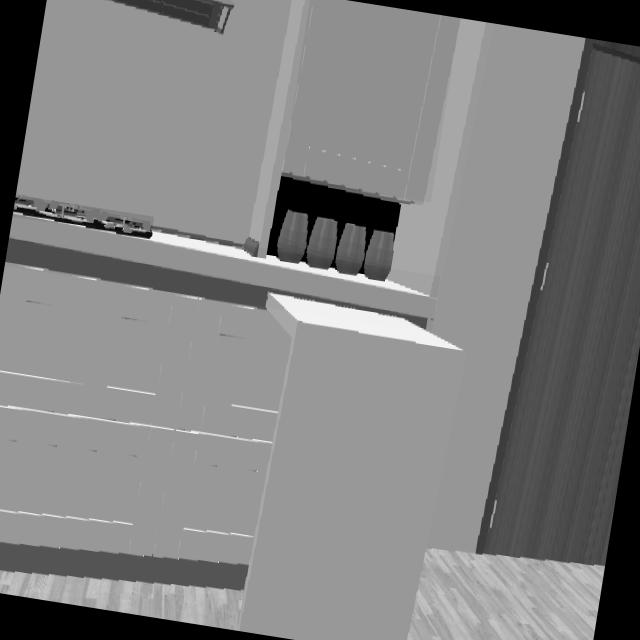cabinet: (0, 264, 289, 565), (283, 0, 459, 202)
countertop: (6, 213, 437, 328)
stove: (14, 195, 152, 238)
